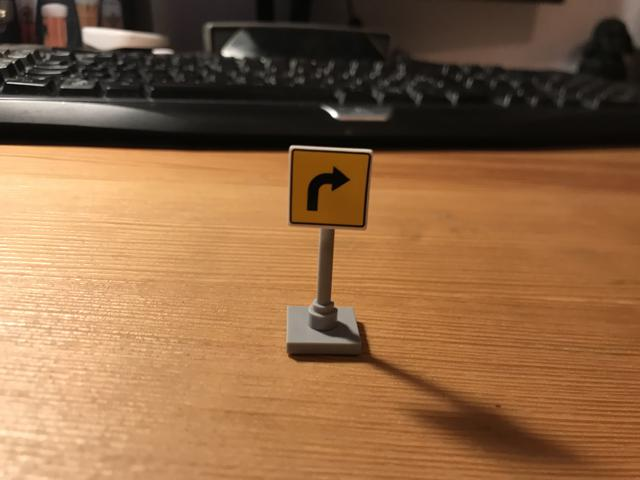fahrtrichtung rechts: (286, 144, 375, 230)
